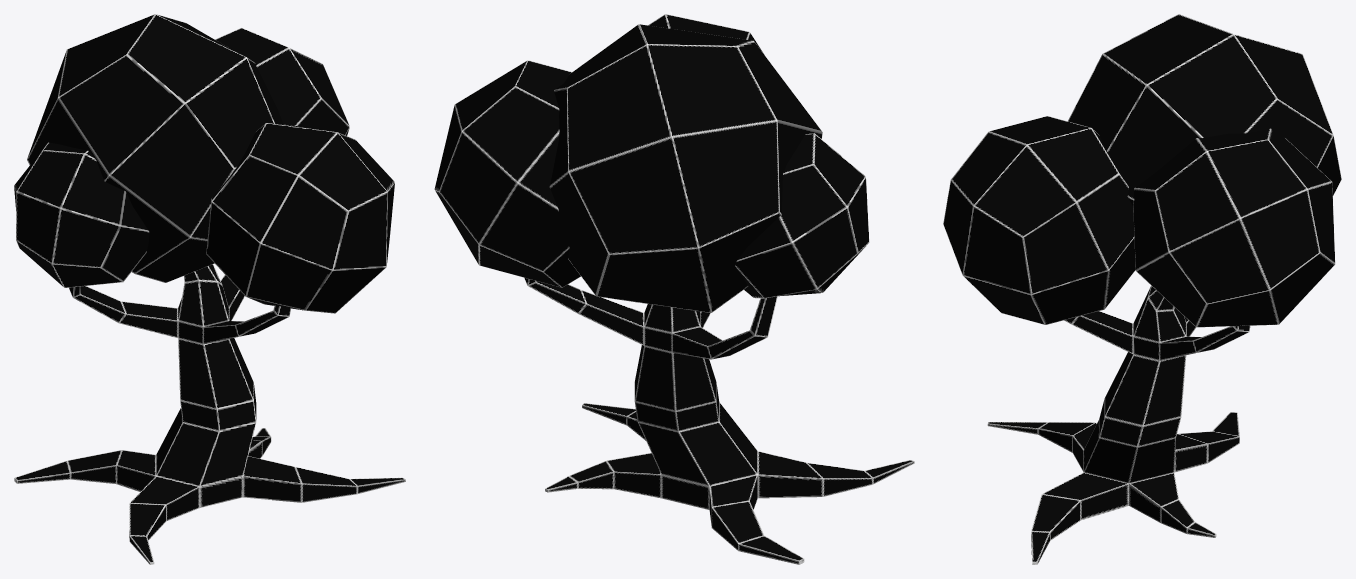
3 views of the same model, side by side, from view 1: azimuth 30°, elevation 25°; view 2: azimuth 150°, elevation 25°; view 3: azimuth 270°, elevation 25° (orthographic). The views are drawn at different scales.
Visible parts, largest first — view 1: DD_10; view 2: DD_10; view 3: DD_10.
Part boxes in pixels (box(x1,y1,x2,y2)): DD_10: box(14, 14, 405, 564); DD_10: box(434, 14, 914, 564); DD_10: box(943, 14, 1341, 564).
Bounding box in the file's own units: 617 × 755 × 603.
1 material, 1 textured.
